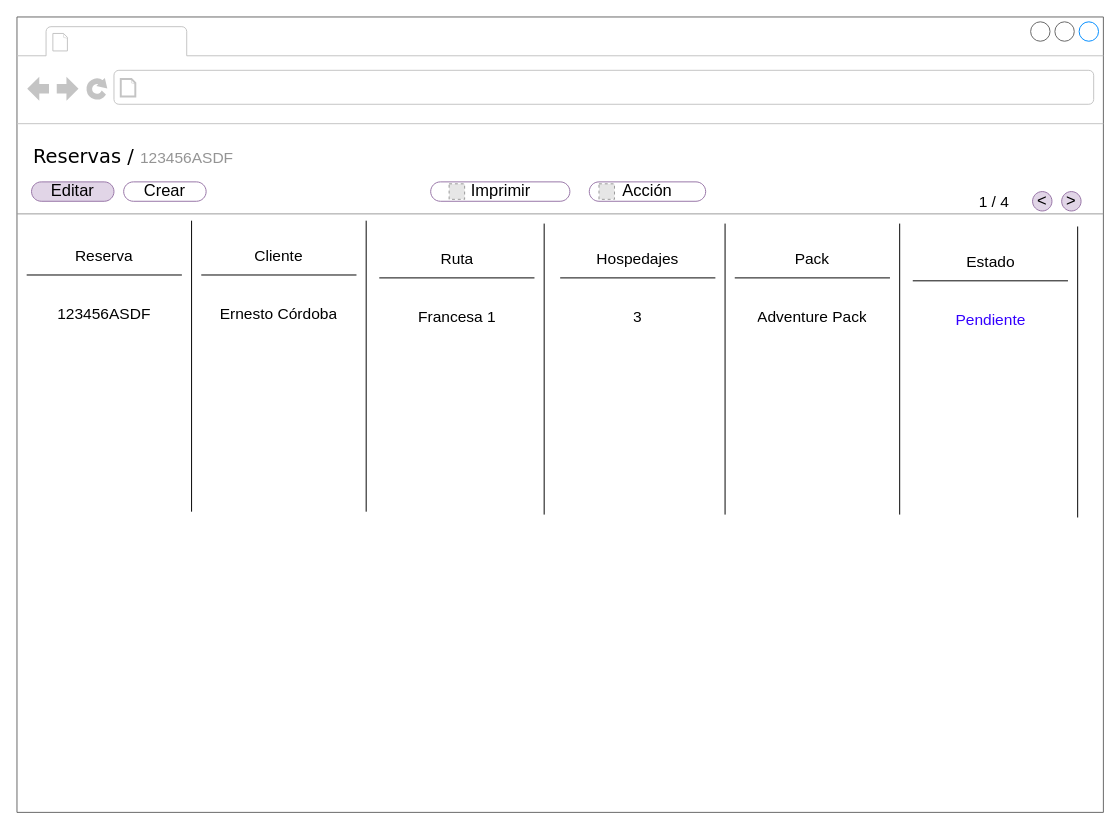
Image size: 1120x829. Some labels were removed from this diagram. Grey dashed boxes stand in for pictures. Here are the shapes that lost their labels. From the top down, the centre of each, then its label:
At pixel 128 41: "Odoo".
At pixel 264 87: "localhost:8069/reservas/123456ASDF-details".
